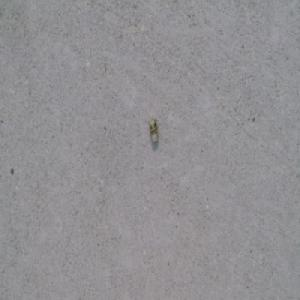BoltNutSet: (148, 118, 157, 144)
